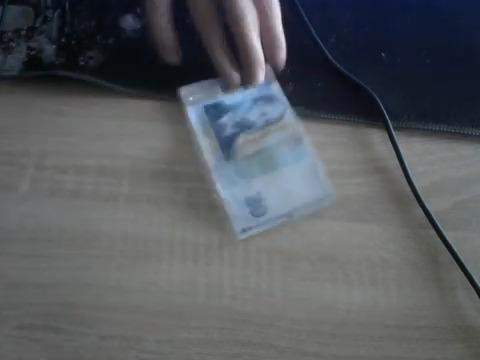20leva: (175, 71, 337, 242)
